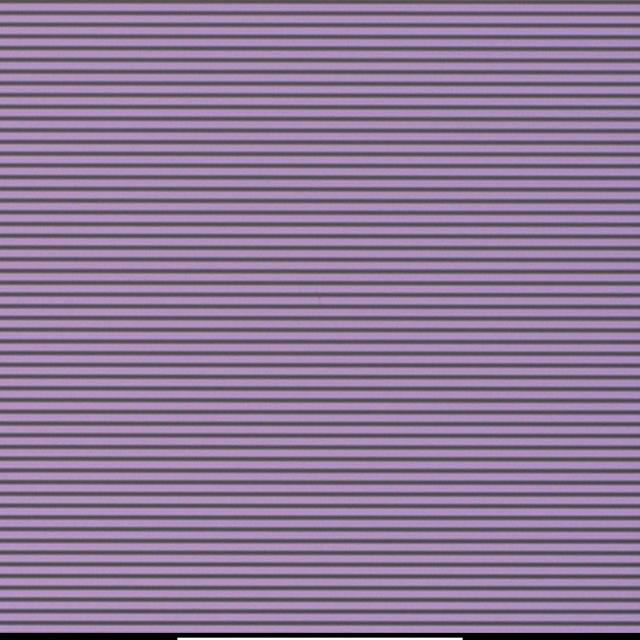nonvisual: (316, 290, 328, 306)
